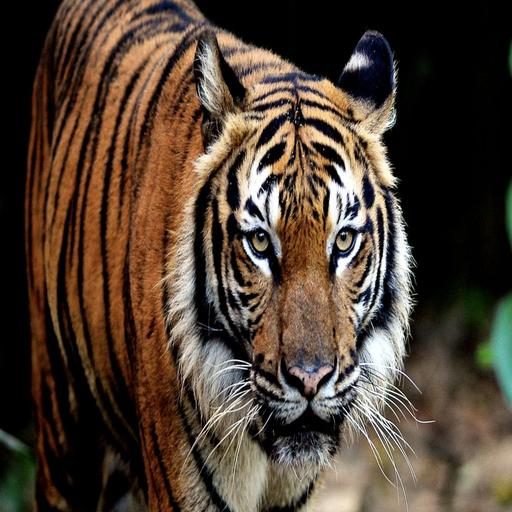Tiger: (15, 0, 443, 512)
